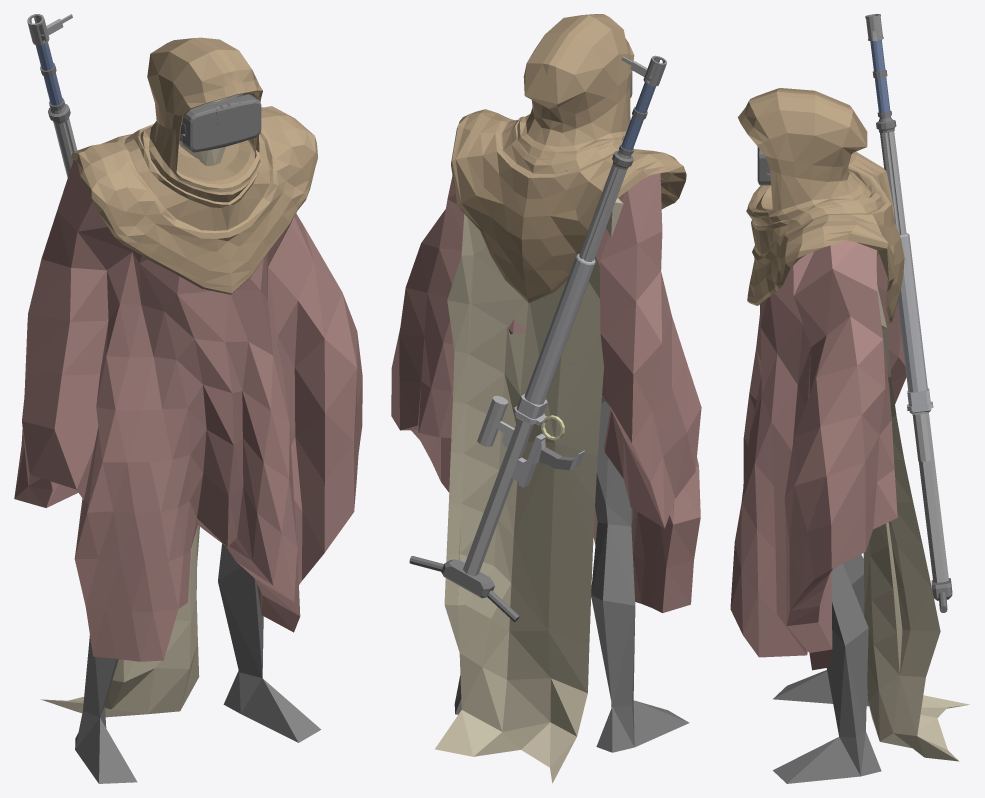
Rendered from Avatar.dae.
The picture shows the model from 3 angles, left to right: view 1: azimuth 30°, elevation 25°; view 2: azimuth 150°, elevation 25°; view 3: azimuth 270°, elevation 25°; orthographic projection. The views are drawn at different scales.
Visible parts, largest first — view 1: Mesh34_skpC1E6_1_Group1_Model; view 2: Mesh34_skpC1E6_1_Group1_Model; view 3: Mesh34_skpC1E6_1_Group1_Model.
Boxes of the visible parts, bbox=[...] form: Mesh34_skpC1E6_1_Group1_Model: bbox=[14, 14, 362, 783]; Mesh34_skpC1E6_1_Group1_Model: bbox=[391, 14, 701, 783]; Mesh34_skpC1E6_1_Group1_Model: bbox=[730, 14, 969, 783].
Bounding box in the file's own units: 0.8554 × 0.6035 × 1.86.
